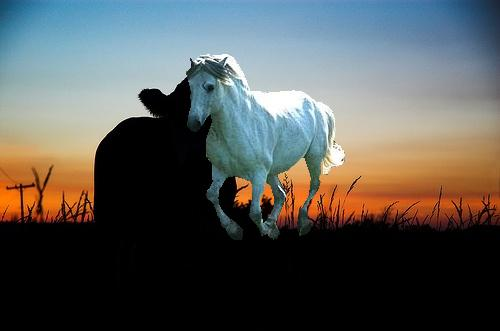tampered: (187, 55, 345, 240)
